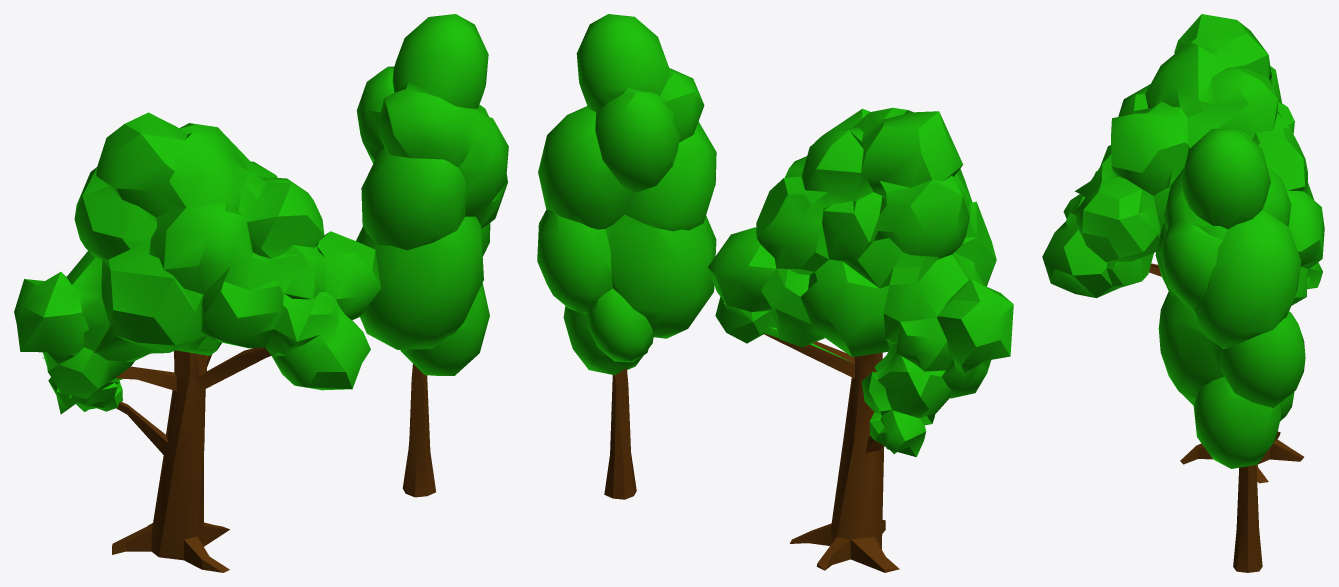
File: Derevo.fbx
3 views of the same model, side by side, from view 1: azimuth 30°, elevation 25°; view 2: azimuth 150°, elevation 25°; view 3: azimuth 270°, elevation 25° (orthographic). The views are drawn at different scales.
Parts seen in each view (by area): view 1: _6_tree, _7_tree; view 2: _6_tree, _7_tree; view 3: _7_tree, _6_tree.
Boxes of the visible parts, box(x1,y1,x2,y2) form: _6_tree: box(14, 112, 380, 572); _7_tree: box(356, 14, 508, 497); _6_tree: box(708, 107, 1013, 572); _7_tree: box(537, 14, 716, 499); _7_tree: box(1155, 129, 1305, 572); _6_tree: box(1042, 14, 1324, 483).
Bounding box in the file's own units: 290 × 278 × 160.
